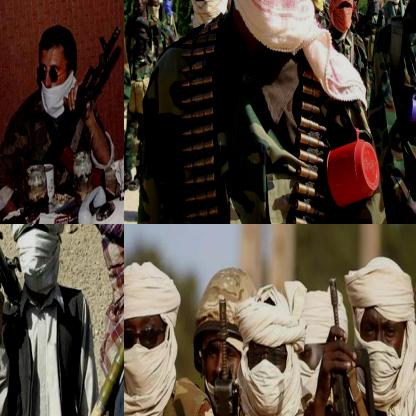rifle: (38, 22, 123, 193), (305, 272, 380, 415), (206, 293, 241, 415)
